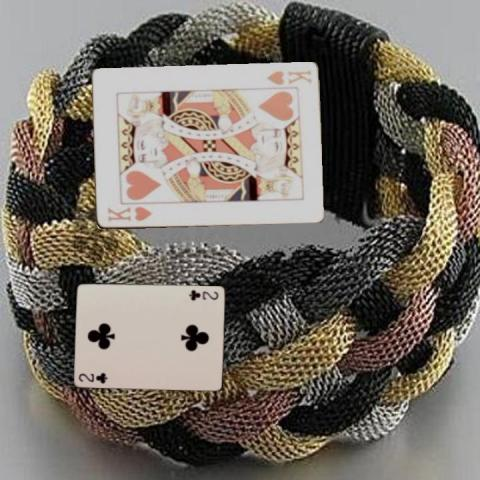2c: (75, 370, 109, 385), (186, 287, 220, 301)
Kh: (264, 66, 313, 87), (105, 204, 153, 223)
